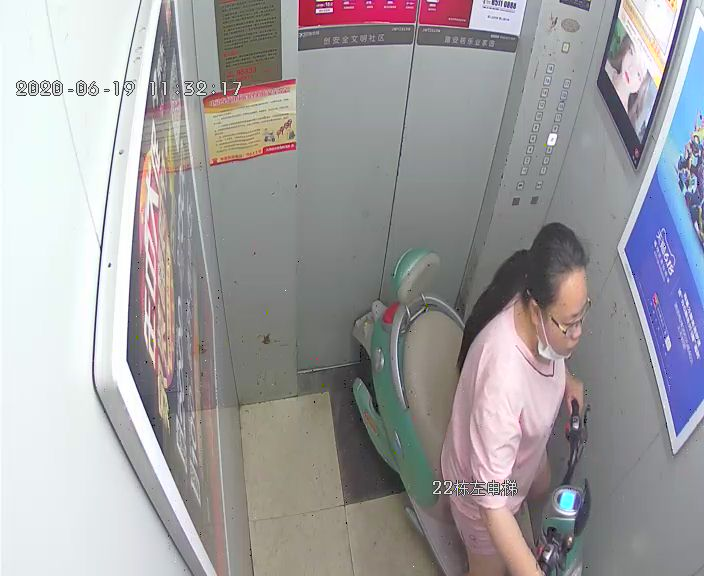Electric-bicycle: (360, 250, 597, 575)
